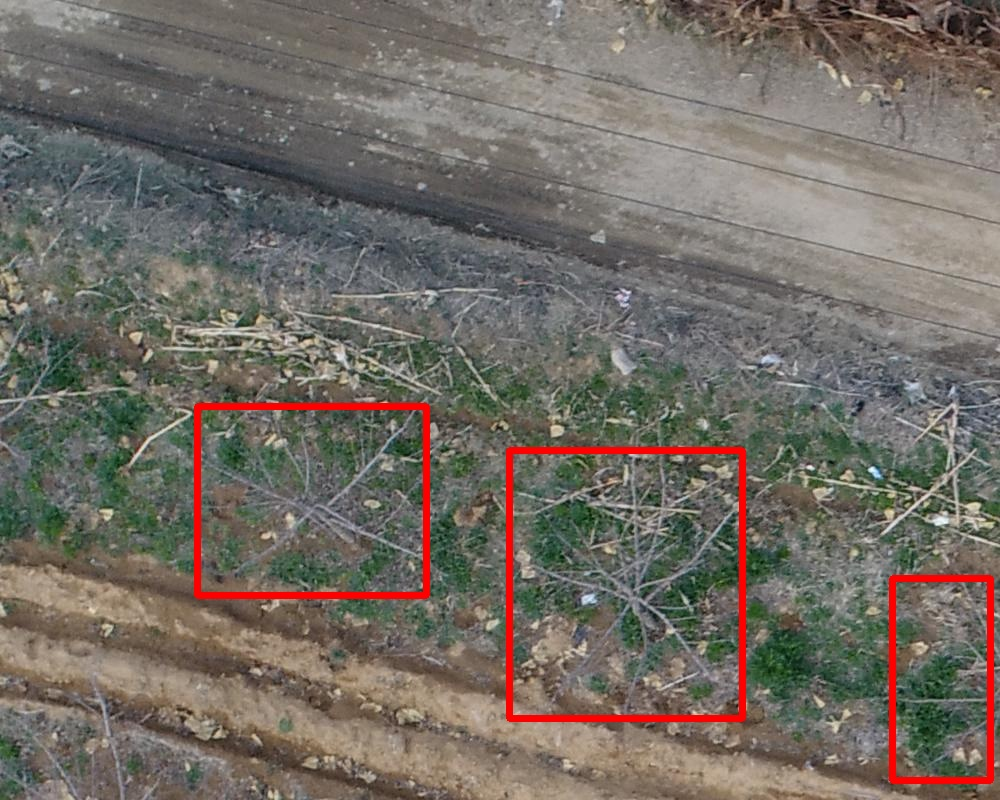apple: (509, 450, 742, 718), (197, 406, 426, 595), (892, 578, 990, 780)
